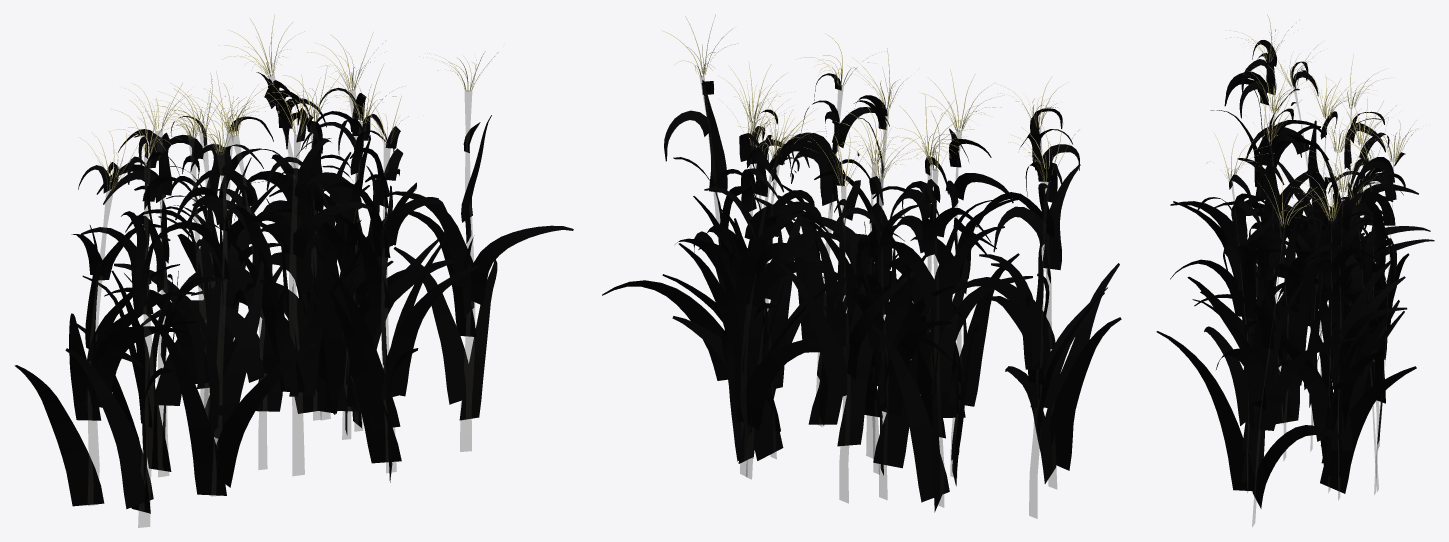
Rendered from Vegetation_Corn.fbx.
3 views of the same model, side by side, from view 1: azimuth 30°, elevation 25°; view 2: azimuth 150°, elevation 25°; view 3: azimuth 270°, elevation 25° (orthographic). The views are drawn at different scales.
Visible parts, largest first — view 1: Vegetation_Corn; view 2: Vegetation_Corn; view 3: Vegetation_Corn.
Part boxes in pixels (x1,y1,x2,y2): Vegetation_Corn: (14,14,573,527); Vegetation_Corn: (602,14,1121,518); Vegetation_Corn: (1156,14,1434,526).
Bounding box in the file's own units: 84.6 × 64.97 × 44.71.
